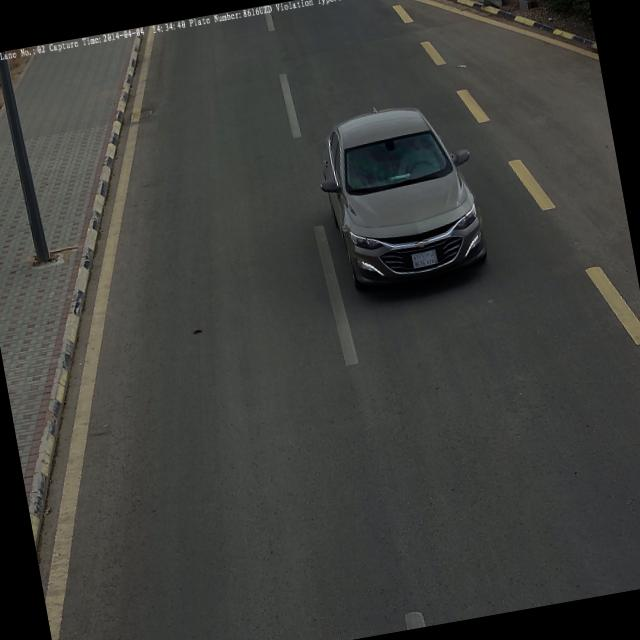person_without_seatbelt: (394, 134, 436, 181)
